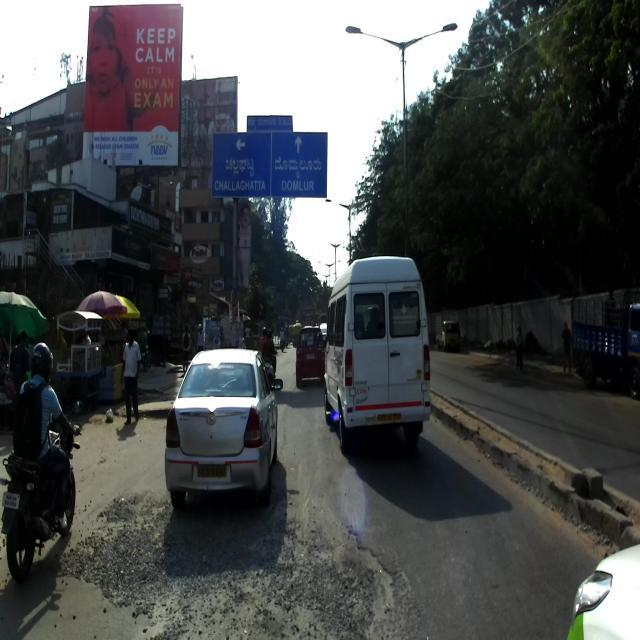pothole: (266, 516, 411, 640), (139, 521, 259, 640), (88, 497, 138, 595)
